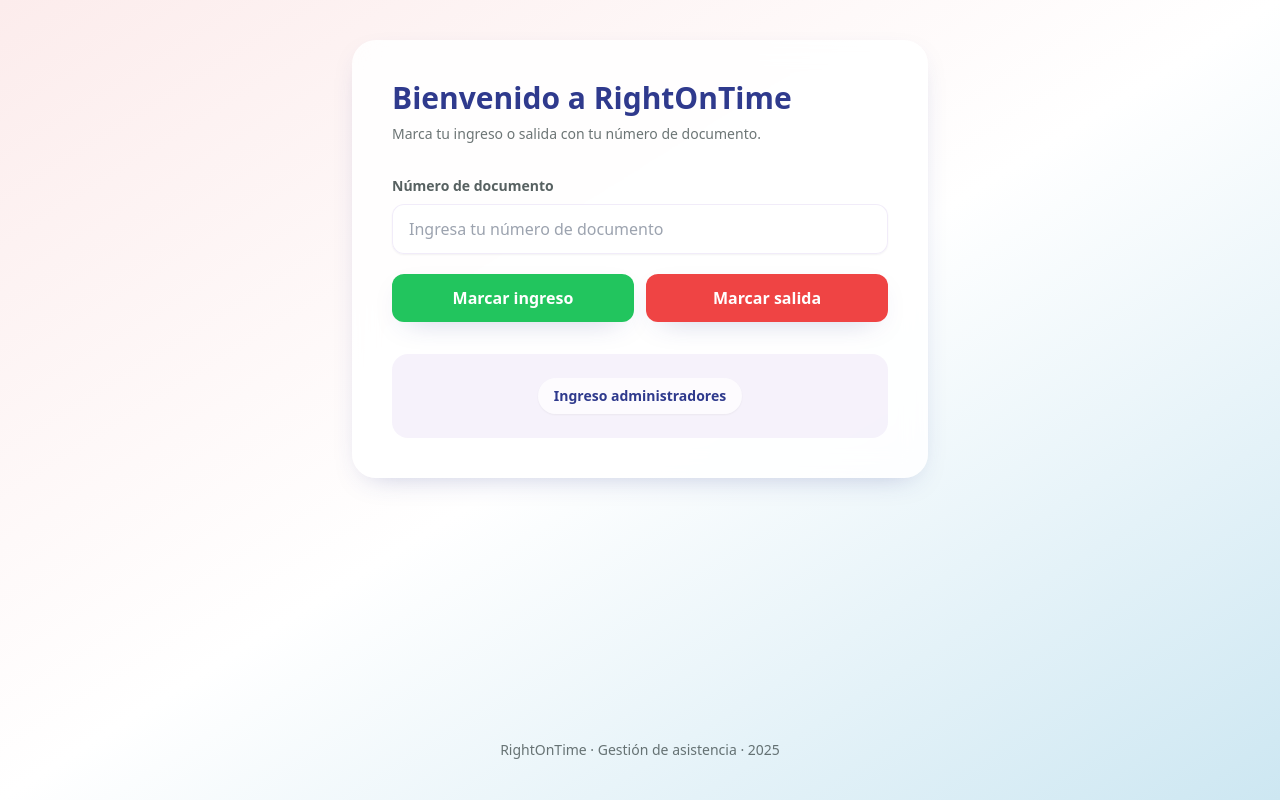
Test: RightOnTime views › shows error when trying to check-in without document
This screenshot has width=1280, height=800.
Click the button "Marcar ingreso" at (513, 298), box [392,274,634,322]
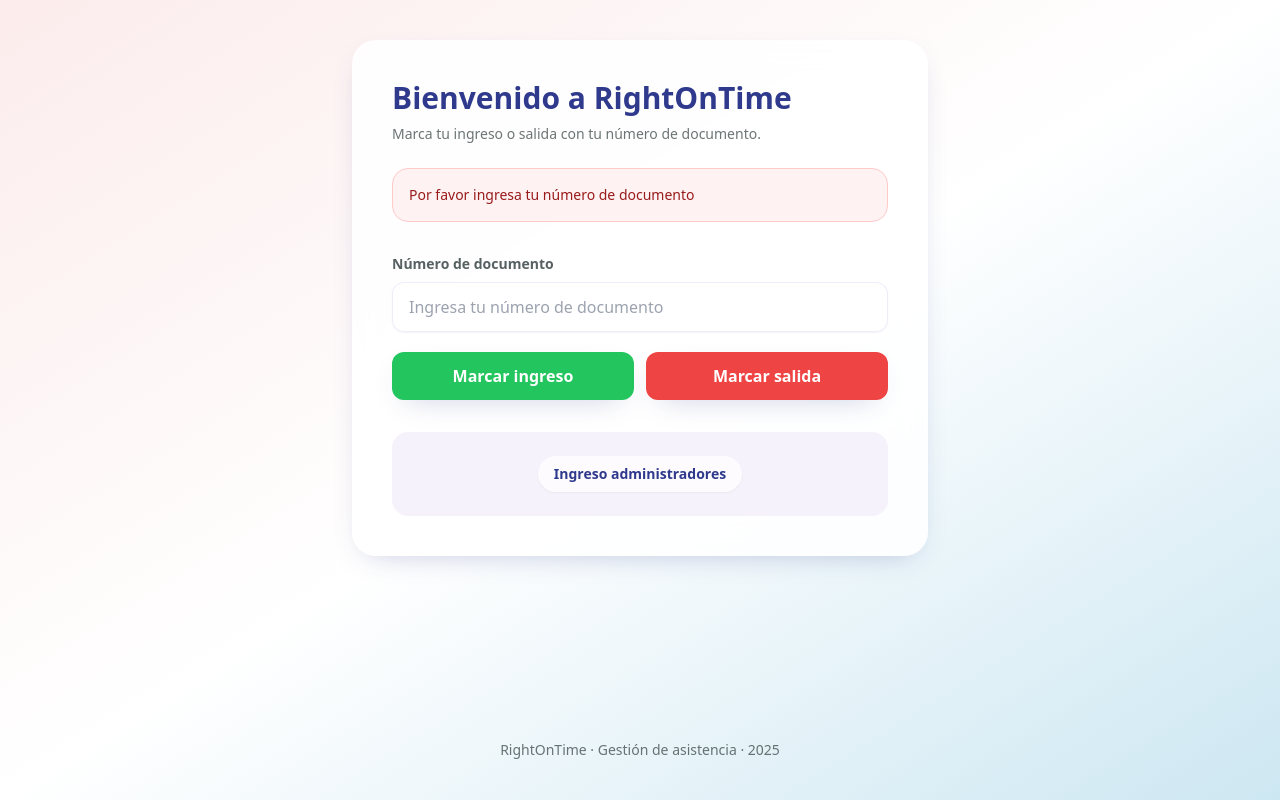
expect the text "Por favor ingresa tu número de documento" is shown: met, box [392,168,888,222]
